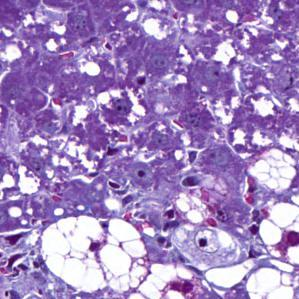ballooning: (39, 213, 154, 296), (200, 248, 295, 295), (253, 198, 299, 279), (136, 259, 210, 299), (243, 144, 296, 199)
